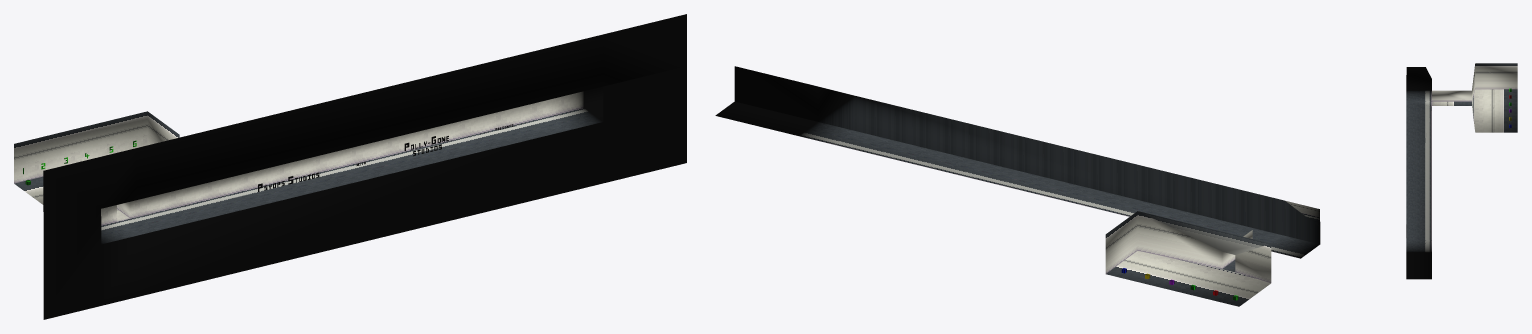
File: level1.glb
The picture shows the model from 3 angles, left to right: view 1: azimuth 30°, elevation 25°; view 2: azimuth 150°, elevation 25°; view 3: azimuth 270°, elevation 25°; orthographic projection. The views are drawn at different scales.
Visible parts, largest first — view 1: level1; view 2: level1; view 3: level1.
Part boxes in pixels (box(x1,y1,x2,y2)): level1: box(14, 14, 686, 319); level1: box(715, 66, 1320, 306); level1: box(1406, 63, 1517, 279).
Size of the model in its own units: 38.68 by 8.56 by 8.76.
2 materials, 2 textured.
